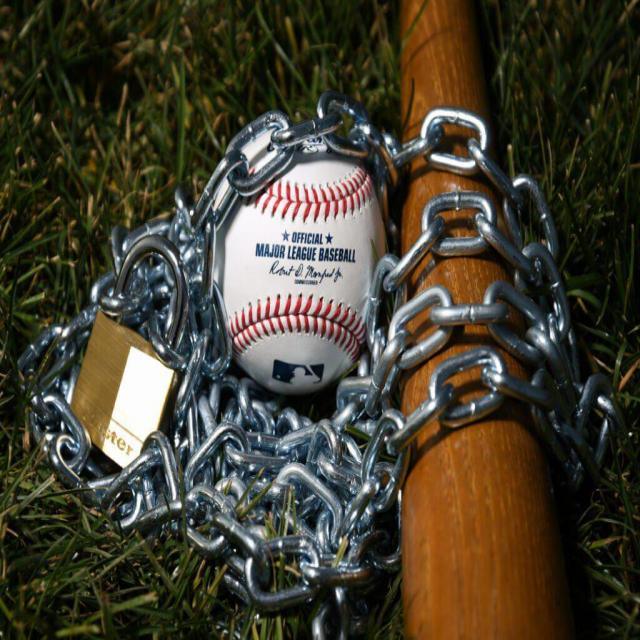baseball: (214, 141, 382, 388)
